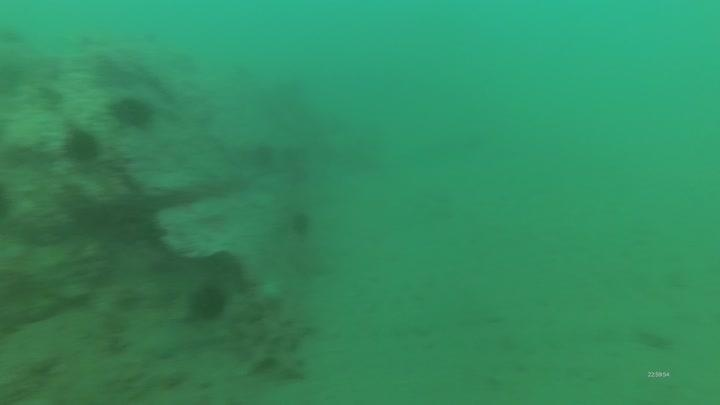echinus: (107, 93, 157, 132), (186, 281, 230, 324), (61, 126, 102, 165), (286, 208, 315, 239)
